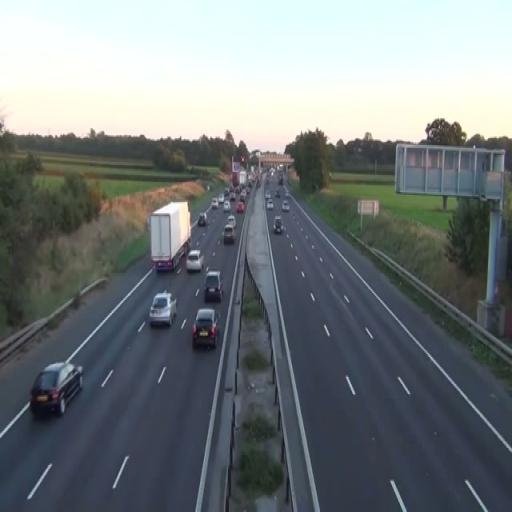Car: (29, 361, 84, 417), (192, 307, 218, 350), (148, 291, 178, 328), (204, 270, 224, 303), (186, 250, 204, 272), (273, 215, 283, 234), (235, 200, 245, 214), (198, 212, 207, 226), (282, 199, 289, 212)
Truck: (150, 201, 191, 273)
